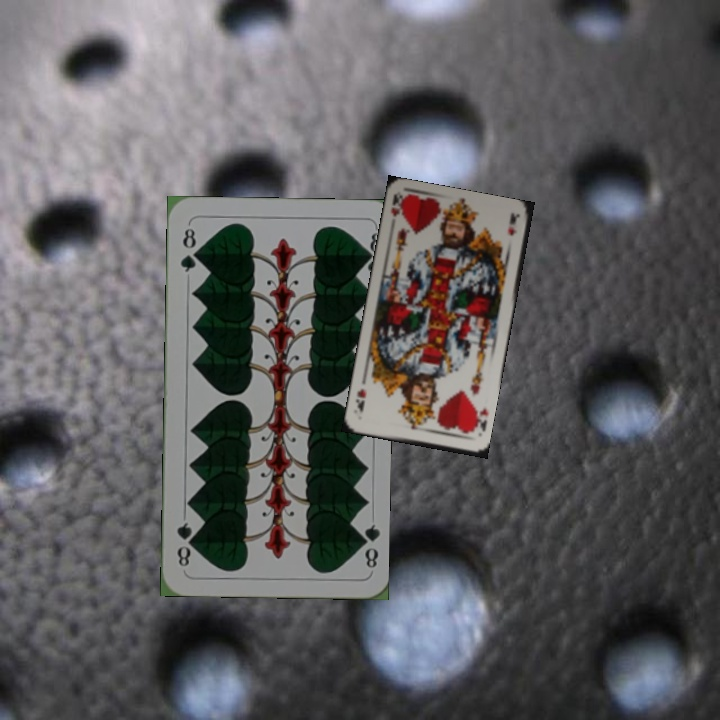G8: (354, 520, 381, 570), (177, 224, 200, 275)
HK: (467, 403, 491, 435), (387, 191, 408, 220)
